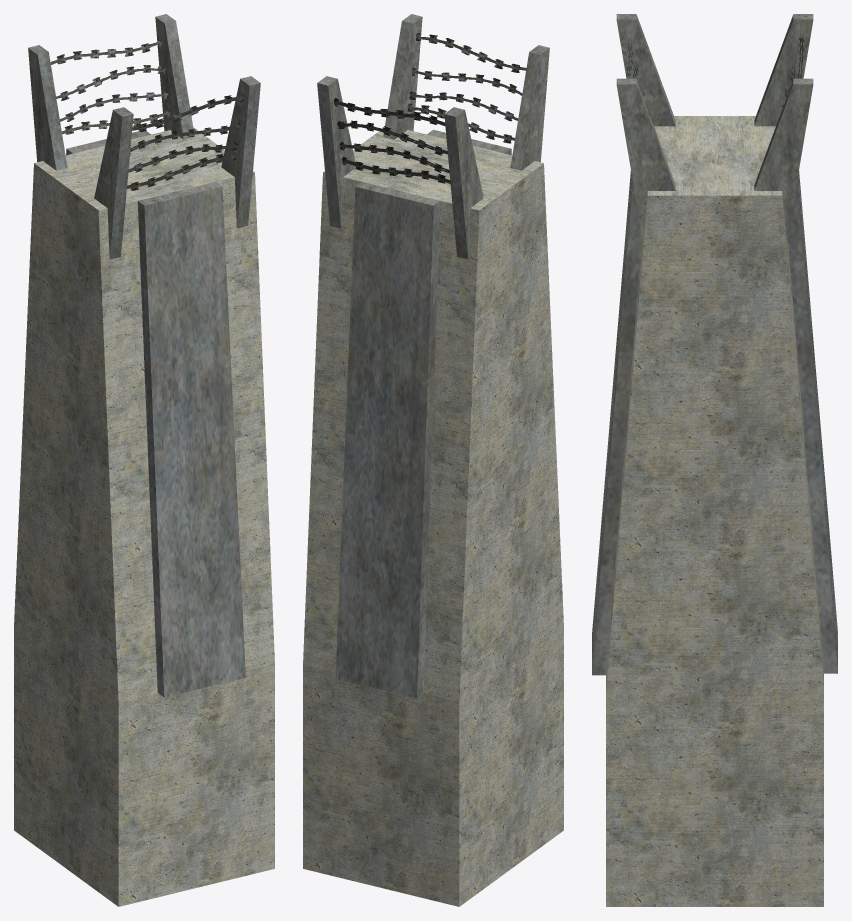
File: thm_corl_imprv_column_s03_l0.fbx
3 renders of one model, left to right at view 1: azimuth 30°, elevation 25°; view 2: azimuth 150°, elevation 25°; view 3: azimuth 270°, elevation 25°, orthographic. The views are drawn at different scales.
Parts seen in each view (by area): view 1: mesh_node; view 2: mesh_node; view 3: mesh_node.
Part boxes in pixels (<box>): mesh_node: <box>14,14,274,906</box>; mesh_node: <box>303,14,563,906</box>; mesh_node: <box>592,14,837,906</box>.
Size of the model in its own units: 1.2 by 5.75 by 1.57.
